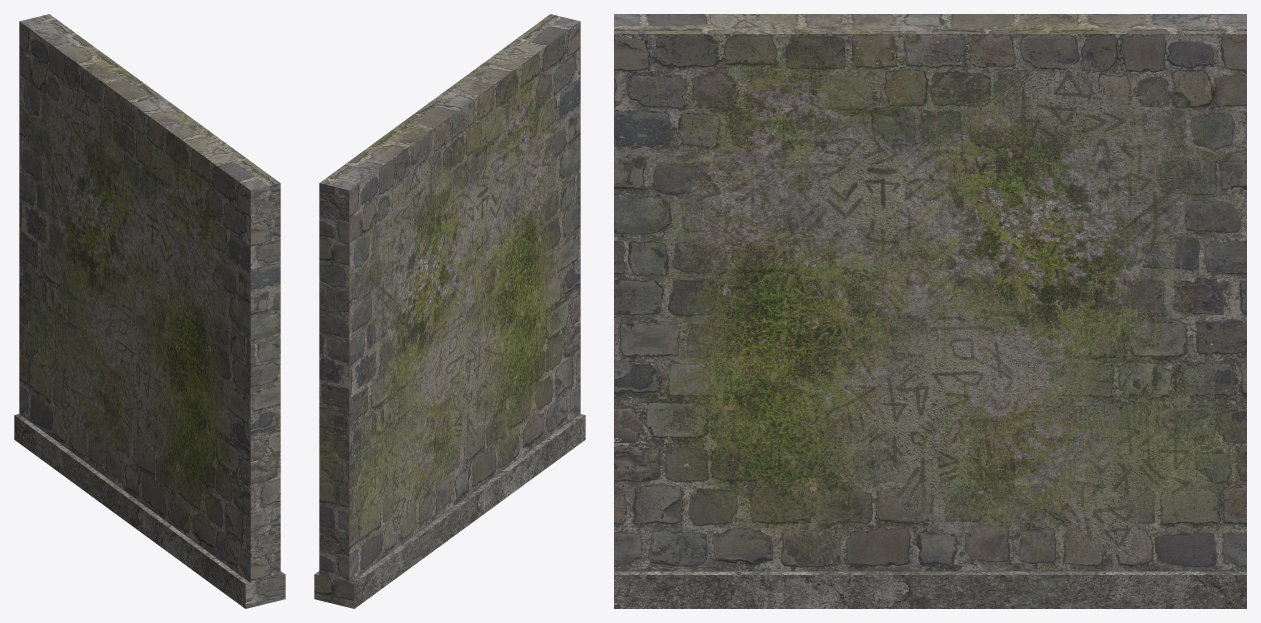
File: Wall_Lvl2_5.fbx
3 renders of one model, left to right at view 1: azimuth 30°, elevation 25°; view 2: azimuth 150°, elevation 25°; view 3: azimuth 270°, elevation 25°, orthographic. The views are drawn at different scales.
Visible parts, largest first — view 1: wall.002; view 2: wall.002; view 3: wall.002.
Boxes of the visible parts, <box> form: wall.002: <box>14,14,285,608</box>; wall.002: <box>314,14,585,608</box>; wall.002: <box>614,14,1246,608</box>.
Bounding box in the file's own units: 40 × 399 × 400.
Materials: 1 (1 with a texture image).
